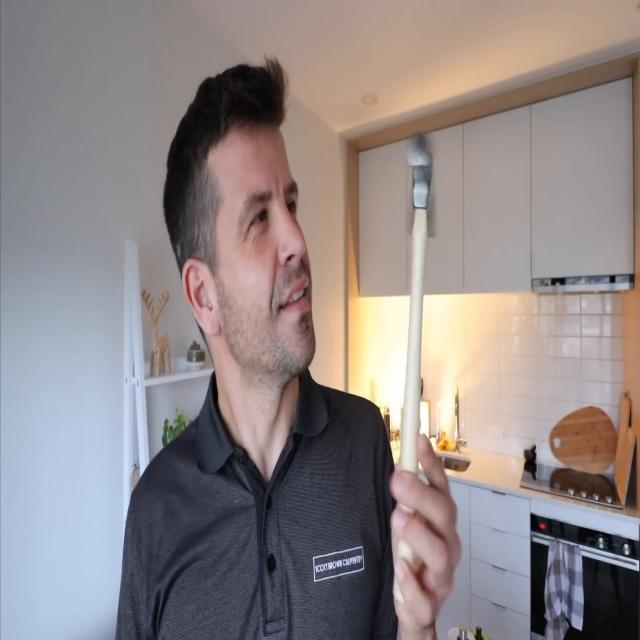hammer: (393, 134, 437, 602)
